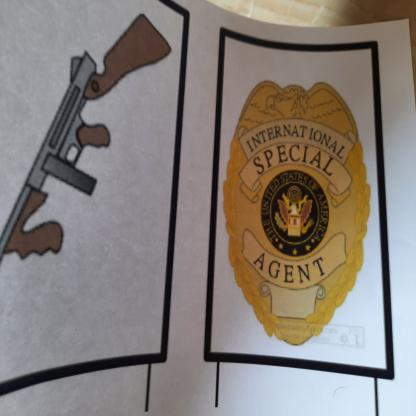Bootlegger: (2, 8, 176, 323)
G-man: (222, 75, 374, 357)
